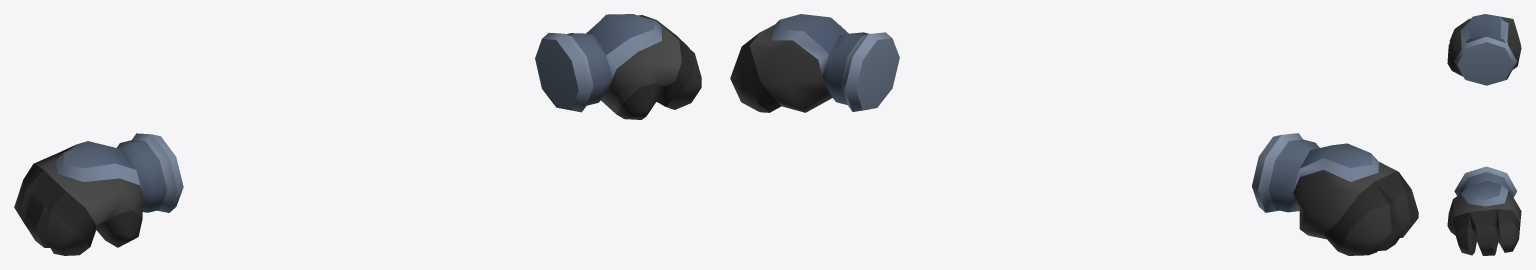
File: Hands_11.fbx
The picture shows the model from 3 angles, left to right: view 1: azimuth 30°, elevation 25°; view 2: azimuth 150°, elevation 25°; view 3: azimuth 270°, elevation 25°; orthographic projection. The views are drawn at different scales.
Parts seen in each view (by area): view 1: Hands_11; view 2: Hands_11; view 3: Hands_11.
Part boxes in pixels (x1,y1,x2,y2): Hands_11: [14, 14, 701, 255]; Hands_11: [730, 14, 1418, 255]; Hands_11: [1447, 14, 1521, 255].
Bounding box in the file's own units: 135 × 17.79 × 20.33.
